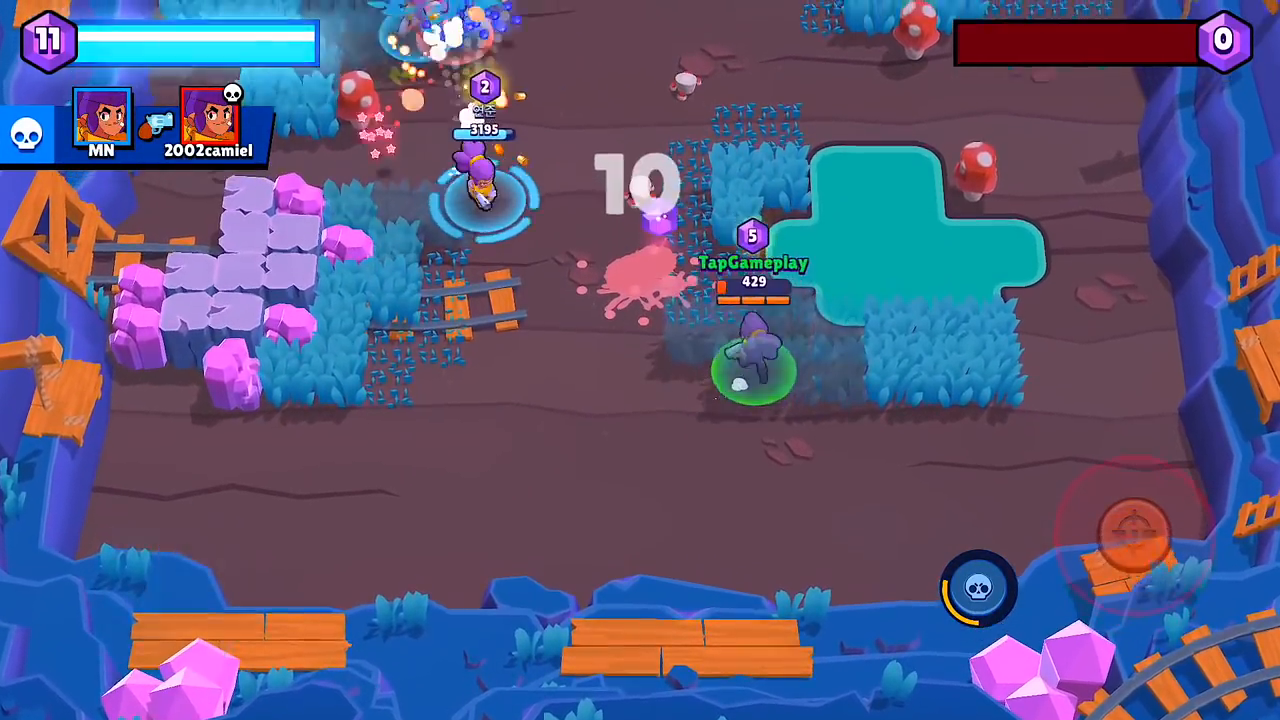red: (427, 1, 500, 75)
